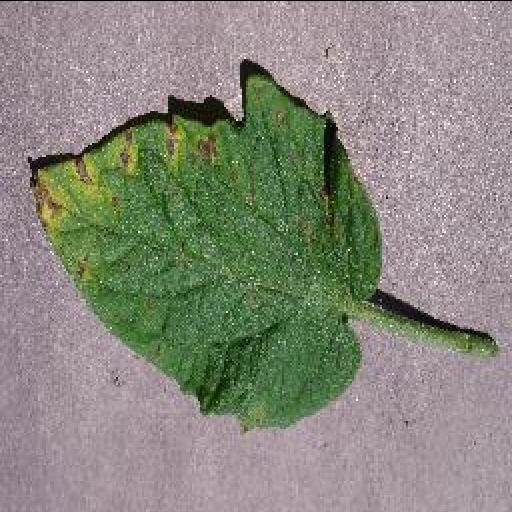disease_tomato: (30, 73, 386, 429)
